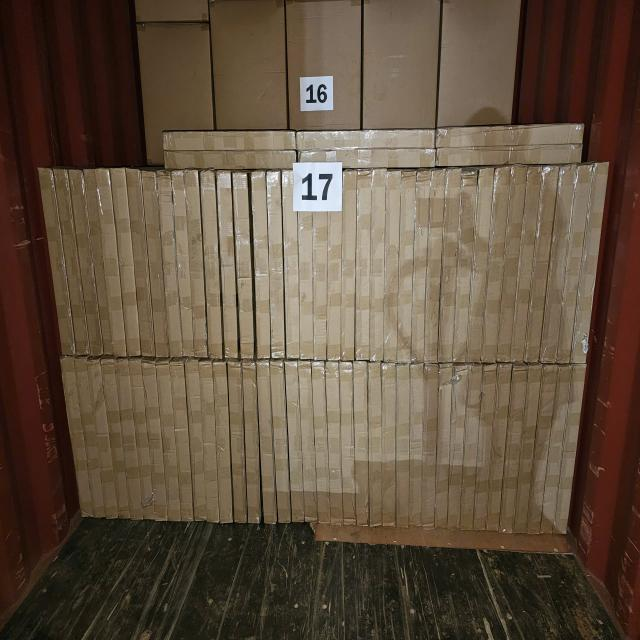Carton: (214, 166, 242, 362), (230, 169, 258, 359), (410, 166, 434, 362), (249, 168, 273, 361), (396, 170, 418, 366), (265, 169, 287, 360), (296, 359, 320, 523), (340, 166, 358, 362), (382, 168, 400, 362), (352, 359, 372, 528), (337, 360, 357, 528), (323, 359, 343, 525), (354, 168, 371, 361), (370, 166, 386, 362), (296, 209, 316, 361), (311, 208, 330, 362), (327, 210, 342, 362)
